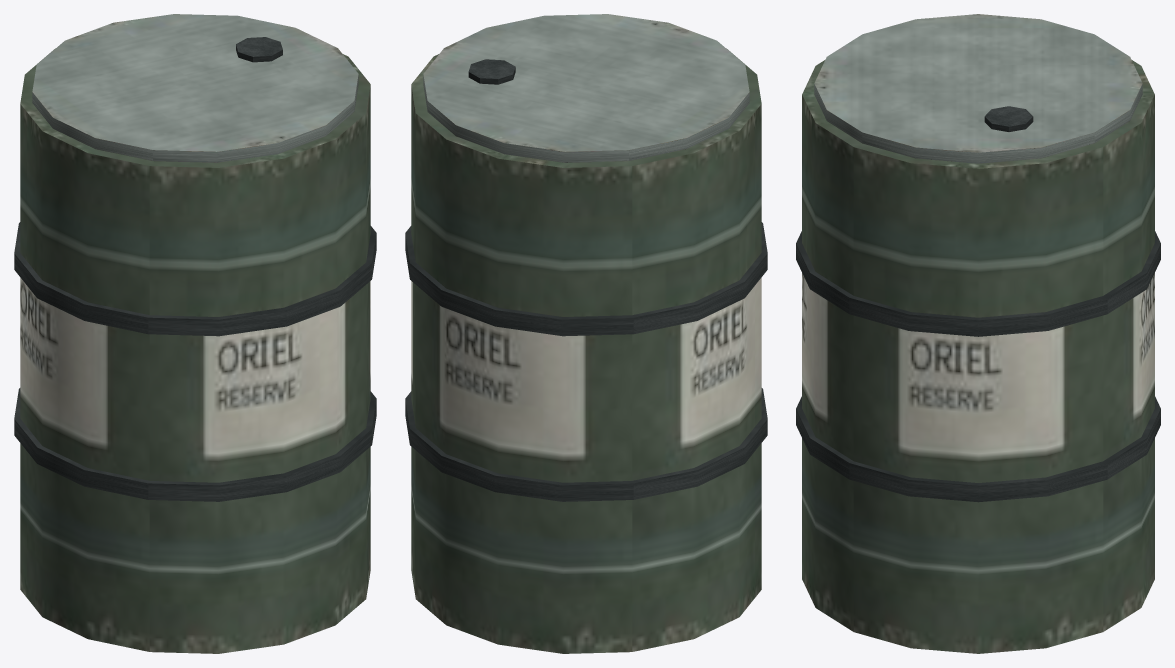
The model's file is fuel_drum.glb.
The picture shows the model from 3 angles, left to right: view 1: azimuth 30°, elevation 25°; view 2: azimuth 150°, elevation 25°; view 3: azimuth 270°, elevation 25°; orthographic projection.
Parts seen in each view (by area): view 1: FuelDrum; view 2: FuelDrum; view 3: FuelDrum.
Part boxes in pixels (x1,y1,x2,y2): FuelDrum: (14,14,376,653); FuelDrum: (405,14,767,653); FuelDrum: (796,14,1160,653).
Bounding box in the file's own units: 0.6 × 0.91 × 0.6.
1 material, 1 textured.
